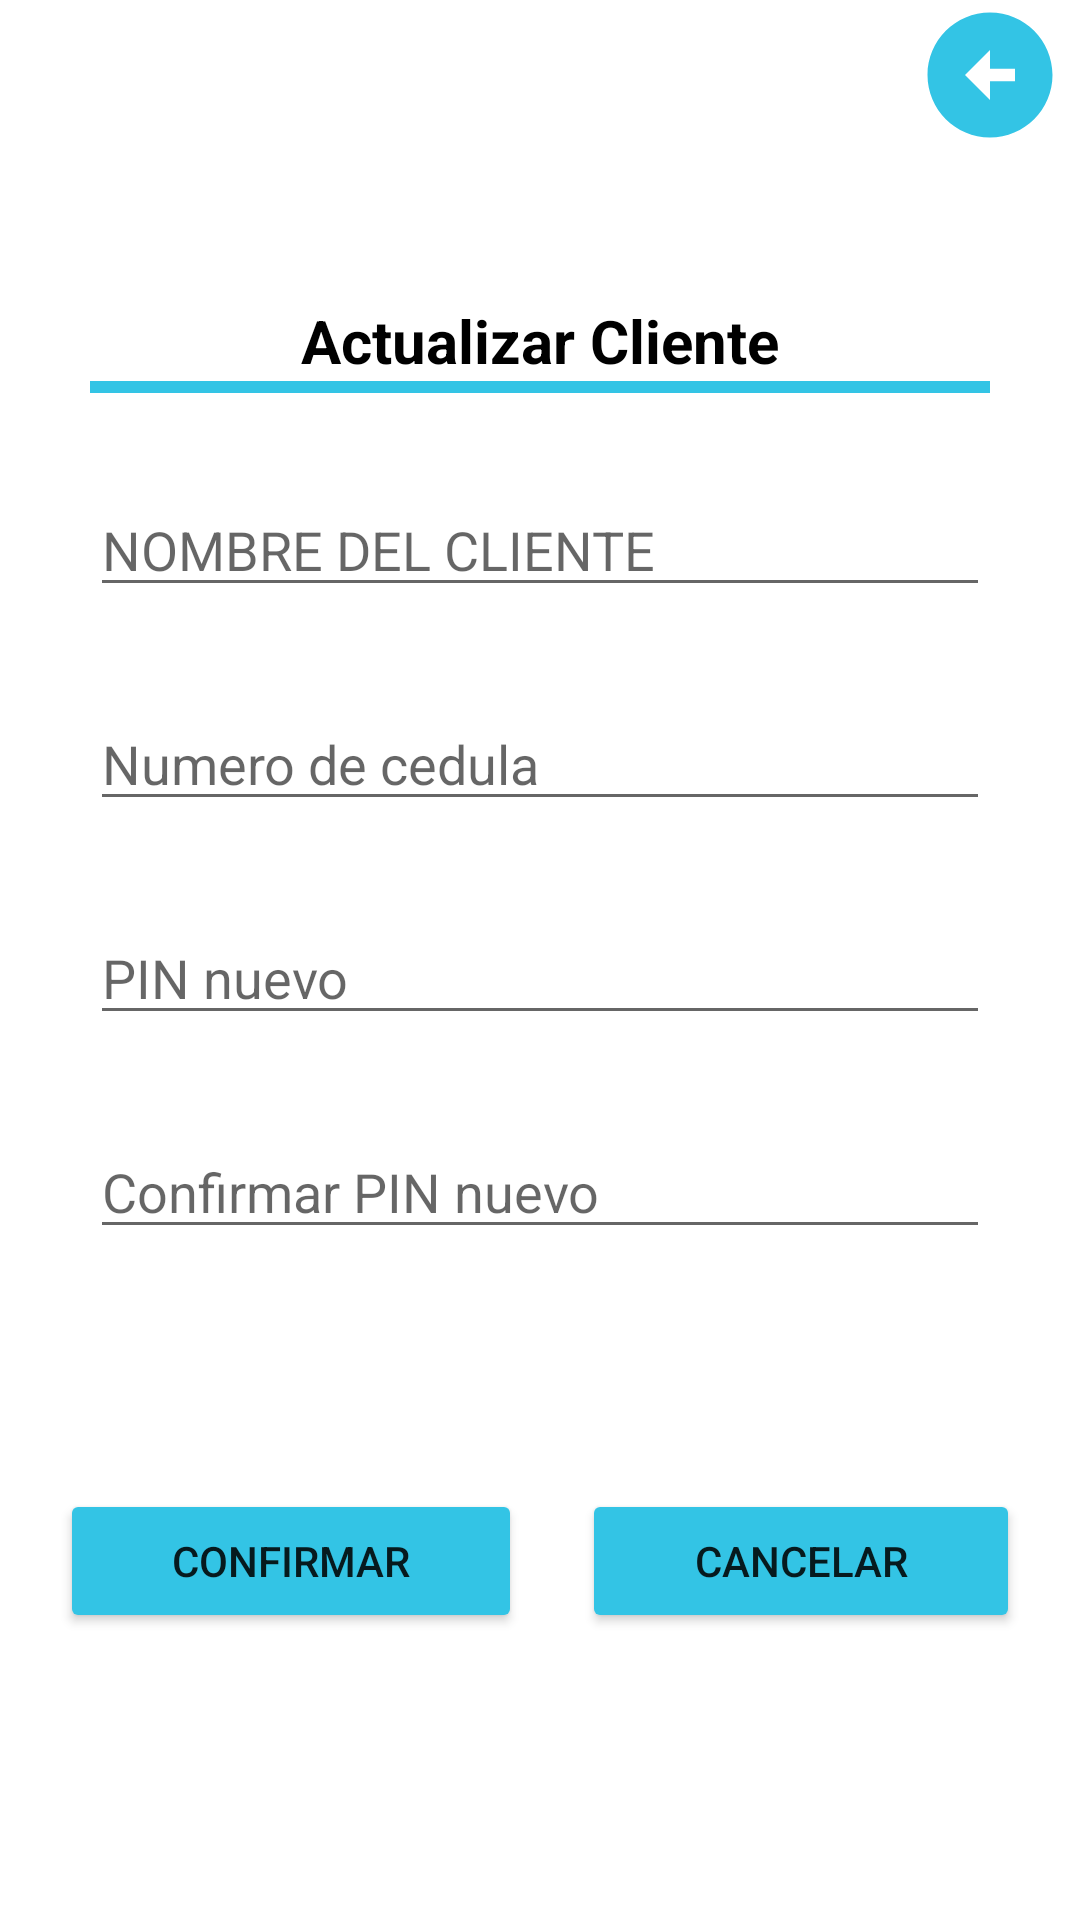

Screen size 1080px×1920px. Icon name, then its box in pixels as (x1, y1, x2, y2):
arrow circle left: (927, 12, 1053, 138)
